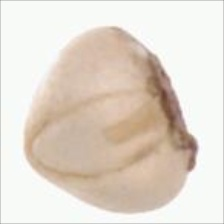L5: (27, 88, 169, 180), (143, 47, 200, 173)
L6: (22, 24, 201, 216)
